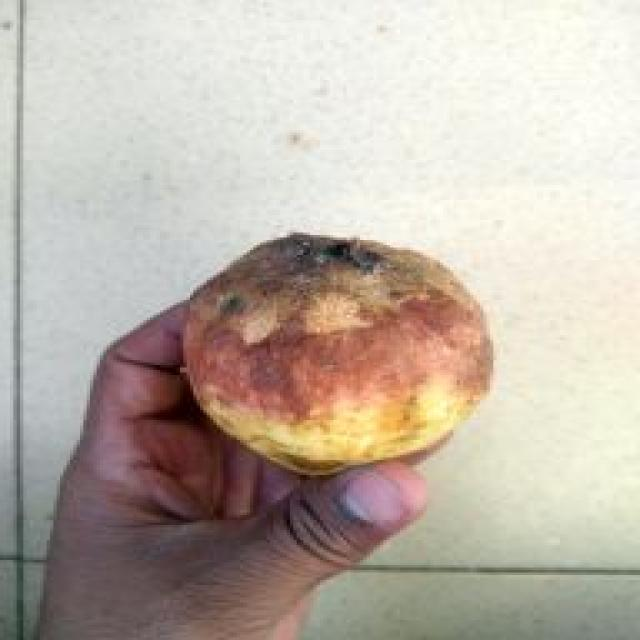Bad_Guava: (185, 234, 493, 474)
